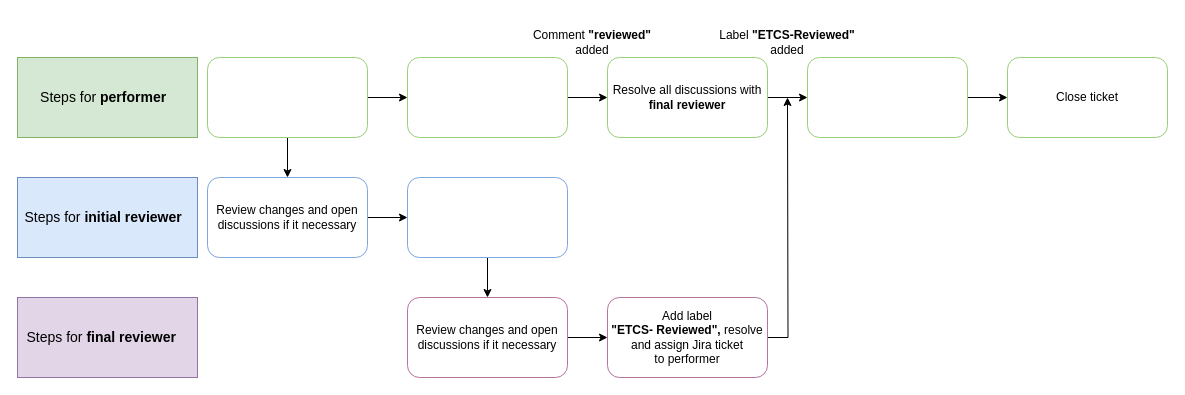
This 1185x395 diagram has some shape labels left out. Here are the shapes that lost their labels. From the top down, the box of each, then its label:
(206, 56, 368, 138): Assign Jira ticket and merge request to initial reviewer
(406, 56, 568, 138): Resolve all discussions with initial reviewer
(806, 56, 968, 138): Merge changes in target branch
(406, 176, 568, 258): Add comment "reviewed" and assign Jira ticket to final reviewer
